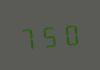five: (40, 20, 60, 49)
seven: (18, 22, 38, 50)
zero: (61, 19, 81, 47)
